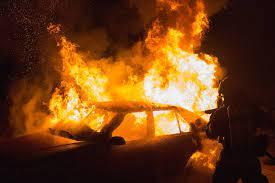fire: (43, 0, 239, 138), (193, 145, 219, 170)
